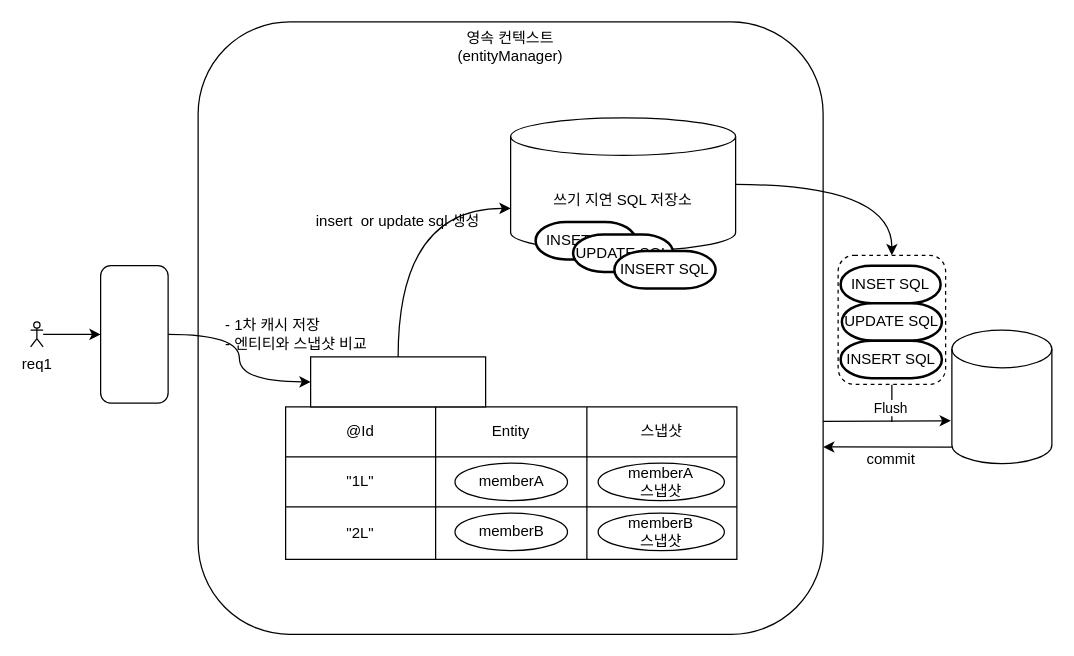
Image size: 1074x656. Some labels were removed from this diagram. The shapes that lost their labels are listed below. From the top down, each one's centre as x and y in pixels, then its label:
At (133,333): "find(), persist(), 엔티티변경 ,flush(), commit()".
At (397,381): "1차 캐시".
At (1001,396): "DB".
